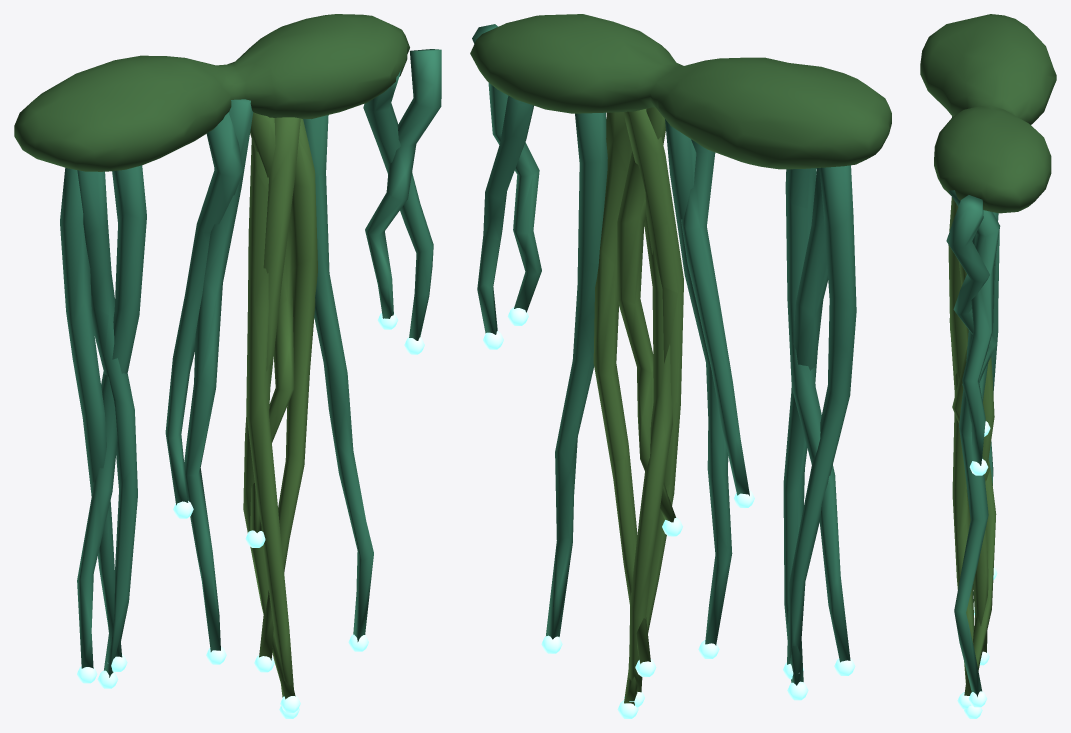
The model's file is grotto_algae_curtain.glb.
3 views of the same model, side by side, from view 1: azimuth 30°, elevation 25°; view 2: azimuth 150°, elevation 25°; view 3: azimuth 270°, elevation 25° (orthographic). The views are drawn at different scales.
Parts seen in each view (by area): view 1: grotto_algae_curtain; view 2: grotto_algae_curtain; view 3: grotto_algae_curtain.
Part boxes in pixels (box(x1,y1,x2,y2)): grotto_algae_curtain: box(14, 14, 441, 718); grotto_algae_curtain: box(470, 14, 891, 718); grotto_algae_curtain: box(920, 14, 1056, 718).
Bounding box in the file's own units: 5.43 × 8.67 × 1.74.
